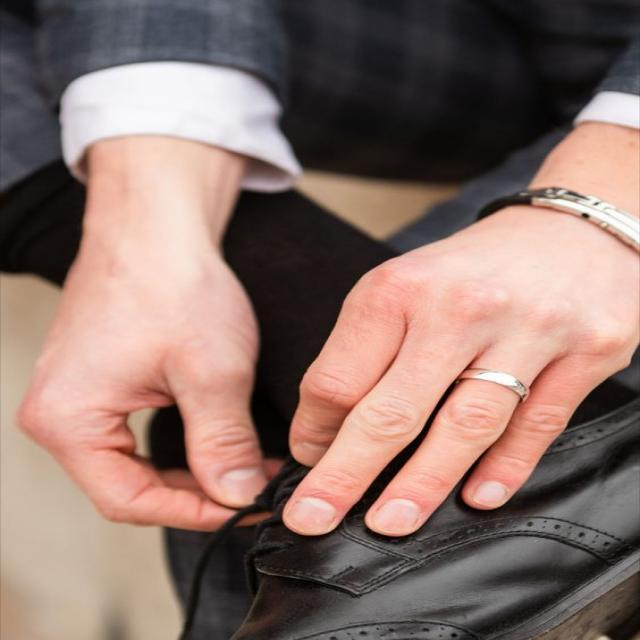Fingernail: (286, 496, 338, 533), (219, 467, 268, 503), (374, 498, 421, 533), (473, 481, 509, 508)
